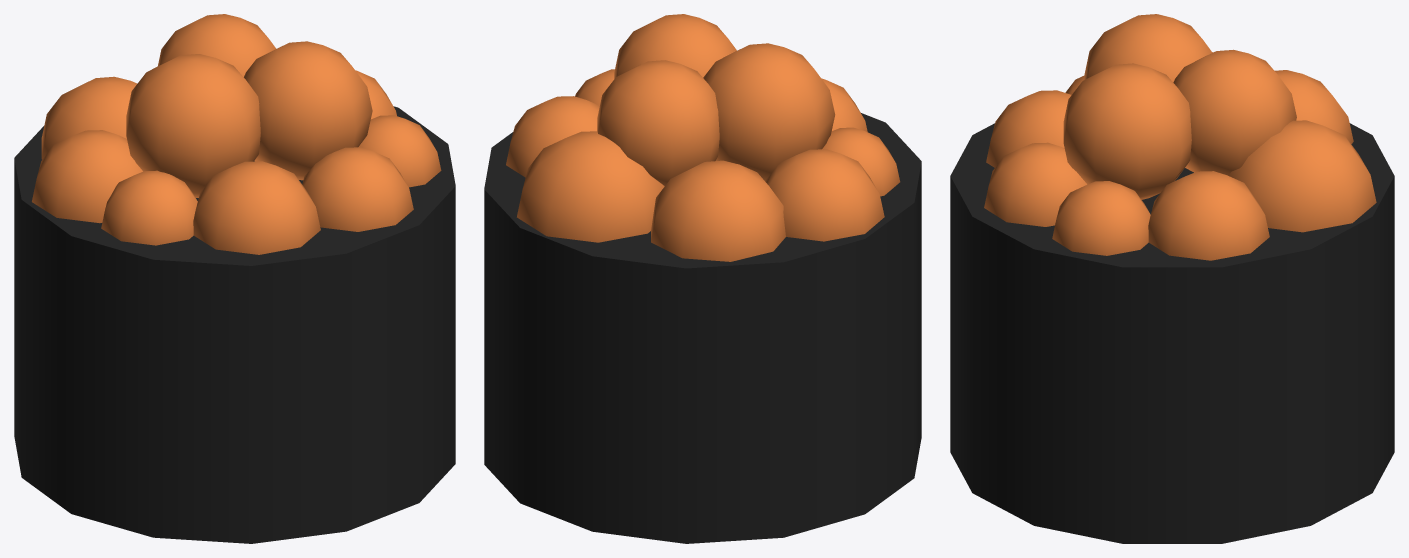
Rendered from Food_SeaUrchinRoll.fbx.
The picture shows the model from 3 angles, left to right: view 1: azimuth 30°, elevation 25°; view 2: azimuth 150°, elevation 25°; view 3: azimuth 270°, elevation 25°; orthographic projection.
Parts seen in each view (by area): view 1: Food_SeaUrchinRoll; view 2: Food_SeaUrchinRoll; view 3: Food_SeaUrchinRoll.
Boxes of the visible parts, x1,y1,x2,y2 form: Food_SeaUrchinRoll: (14, 14, 455, 543); Food_SeaUrchinRoll: (484, 14, 921, 543); Food_SeaUrchinRoll: (950, 14, 1394, 543).
Bounding box in the file's own units: 49.28 × 51.14 × 50.55.
